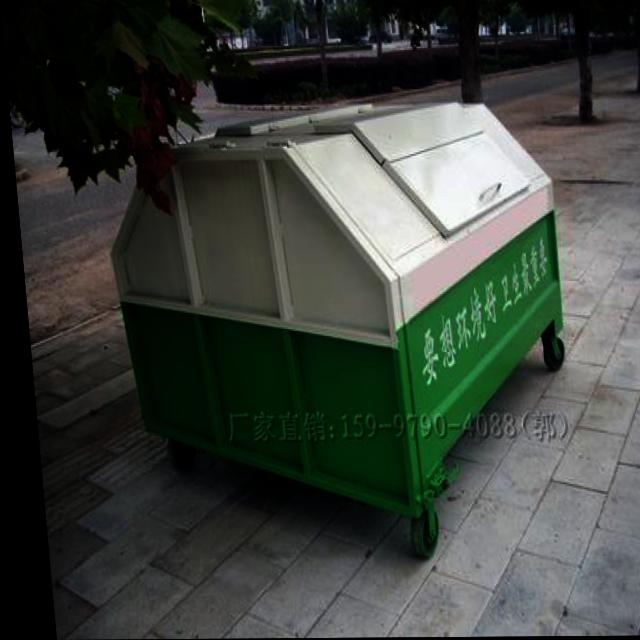garbage_bin: (94, 101, 573, 559)
